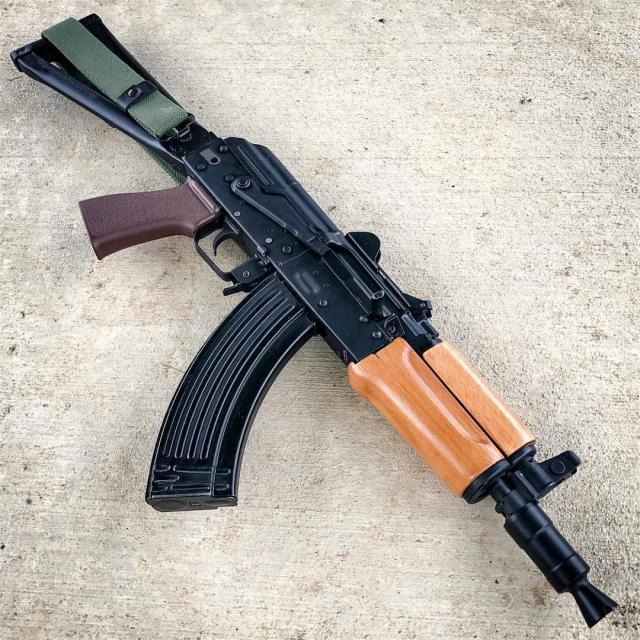ak: (3, 10, 621, 632)
